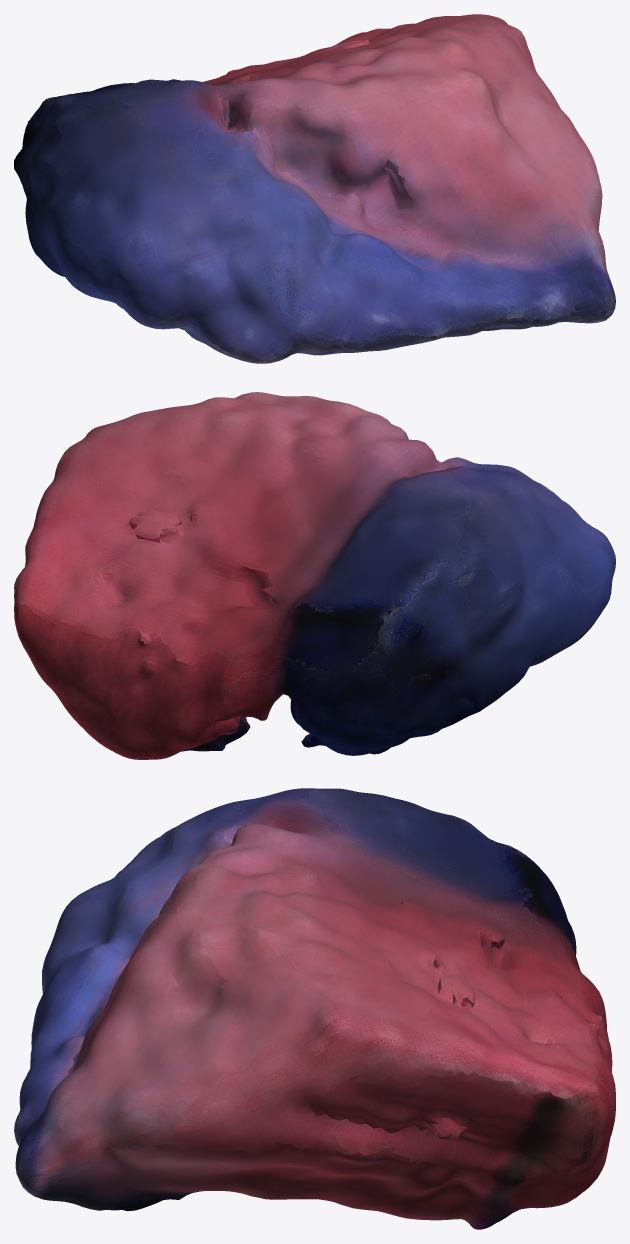
File: 5_pot.glb
3 renders of one model, top to bottom at view 1: azimuth 30°, elevation 25°; view 2: azimuth 150°, elevation 25°; view 3: azimuth 270°, elevation 25°, orthographic. The views are drawn at different scales.
Parts seen in each view (by area): view 1: 5_pot.obj; view 2: 5_pot.obj; view 3: 5_pot.obj.
Boxes of the visible parts, x1,y1,x2,y2 form: 5_pot.obj: [14, 14, 615, 363]; 5_pot.obj: [14, 392, 615, 759]; 5_pot.obj: [14, 788, 615, 1229].
Bounding box in the file's own units: 0.1276 × 0.069 × 0.1211.
Materials: 1 (1 with a texture image).
